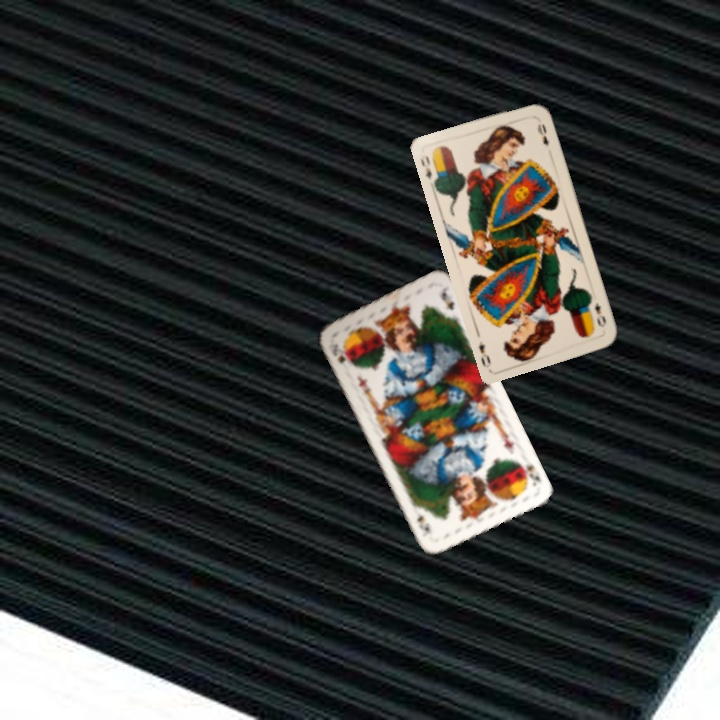EO: (591, 299, 609, 330), (416, 152, 434, 182)
SK: (513, 456, 544, 489), (327, 340, 348, 366)
